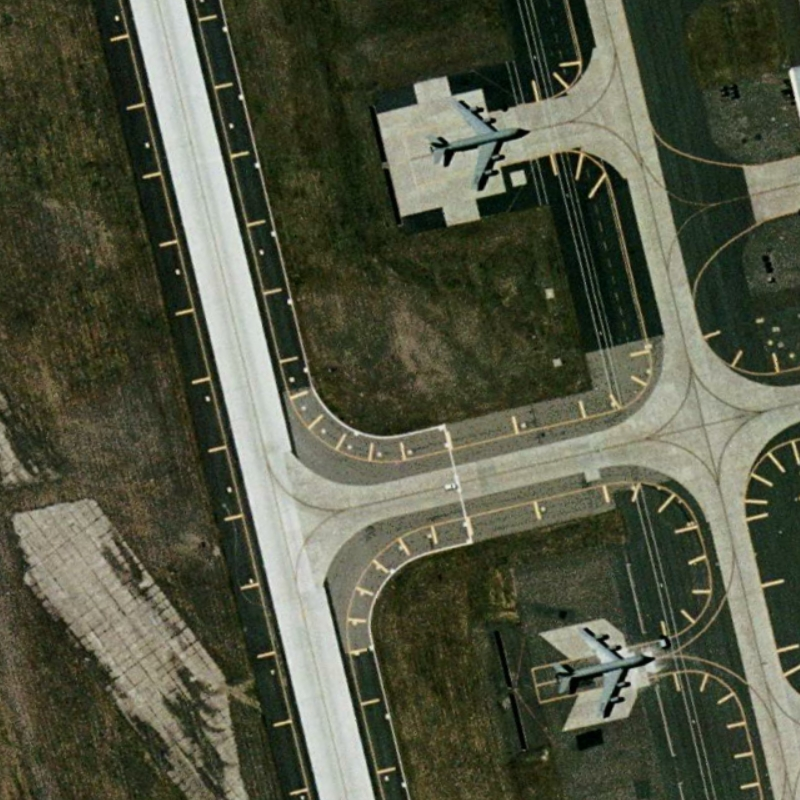A14: (425, 89, 535, 193), (556, 619, 659, 723)
